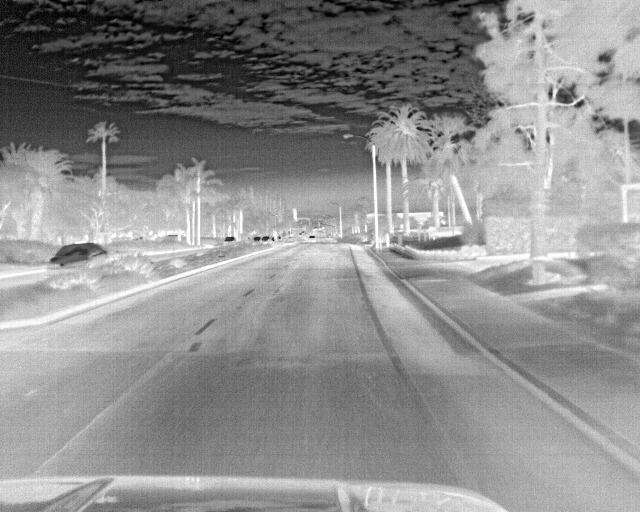car: (47, 242, 107, 271), (222, 234, 238, 246), (259, 234, 273, 246)
